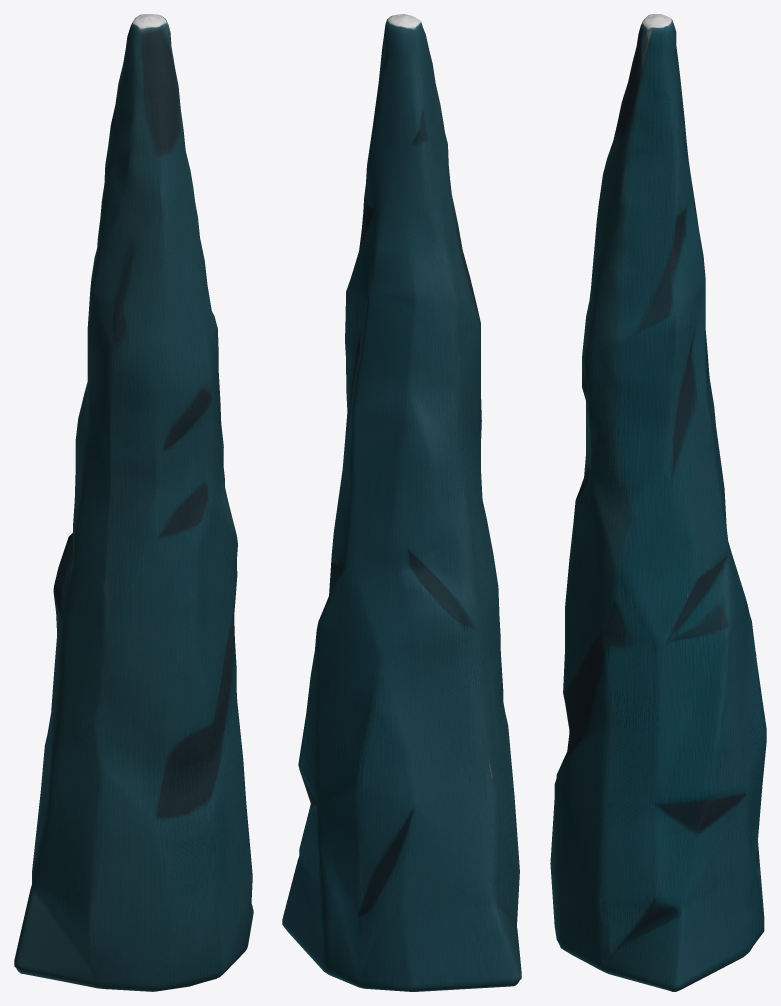
Rendered from Meshy_AI_Midnight_Obelisk_0219200035_texture.fbx.
3 renders of one model, left to right at view 1: azimuth 30°, elevation 25°; view 2: azimuth 150°, elevation 25°; view 3: azimuth 270°, elevation 25°, orthographic.
Visible parts, largest first — view 1: Mesh_0; view 2: Mesh_0; view 3: Mesh_0.
Boxes of the visible parts, x1=… form: Mesh_0: x1=14, y1=14, x2=253, y2=991; Mesh_0: x1=282, y1=14, x2=521, y2=991; Mesh_0: x1=550, y1=14, x2=766, y2=991.
Bounding box in the file's own units: 52.98 × 200 × 42.3.
Materials: 1 (1 with a texture image).
